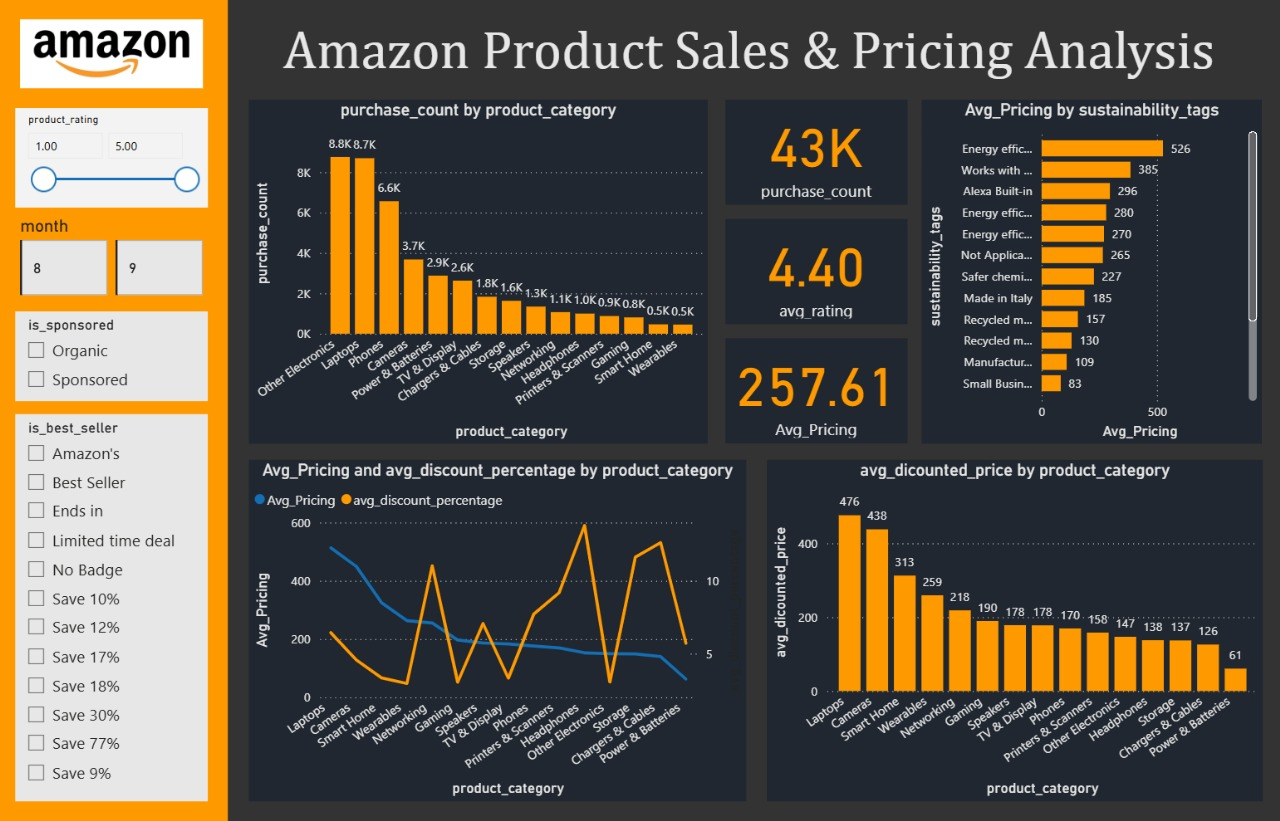

The dashboard page shown, as its layout file describes it:
{"tool":"powerbi","page":{"name":"Page 1","canvas":[1280,820],"ordinal":0},"visuals":[{"type":"textbox","box":[250.1,17.9,997.5,81.1],"z":0},{"type":"textbox","box":[0,0,229.5,820.3],"z":1000},{"type":"slicer","fields":{"Values":["New_Data_Amazon (2).product_rating"]},"box":[17.9,107.2,192.4,98.9],"z":2000},{"type":"advancedSlicerVisual","fields":{"Values":["New_Data_Amazon (2).month"]},"box":[17.9,215.7,287.2,85.2],"z":3000},{"type":"columnChart","fields":{"Category":["New_Data_Amazon (2).product_category"],"Y":["New_Data_Amazon.purchase_count"]},"box":[250.1,98.9,457.5,343.5],"z":4000},{"type":"card","title":"Total Purchaes","fields":{"Values":["New_Data_Amazon.order_count"]},"box":[725.5,98.9,181.4,104.4],"z":5000},{"type":"columnChart","fields":{"Category":["New_Data_Amazon.product_category"],"Y":["New_Data_Amazon.avg_dicounted_price"]},"box":[766.7,458.9,494.6,340.8],"z":6000},{"type":"lineChart","fields":{"Category":["New_Data_Amazon.product_category"],"Y":["New_Data_Amazon.Avg_Pricing"],"Y2":["New_Data_Amazon.avg_discount_percentage"]},"box":[250.1,458.9,496,340.8],"z":7000},{"type":"barChart","fields":{"Category":["New_Data_Amazon.sustainability_tags"],"Y":["New_Data_Amazon.Avg_Pricing"]},"box":[922,98.9,339.4,343.5],"z":8000},{"type":"card","fields":{"Values":["New_Data_Amazon.avg_rating"]},"box":[725.5,218.5,181.4,104.4],"z":9000},{"type":"card","fields":{"Values":["New_Data_Amazon.Avg_Pricing"]},"box":[725.5,338,181.4,104.4],"z":10000},{"type":"slicer","fields":{"Values":["New_Data_Amazon.is_sponsored"]},"box":[17.9,310.5,192.4,89.3],"z":10001},{"type":"slicer","fields":{"Values":["New_Data_Amazon.is_best_seller"]},"box":[17.9,413.6,192.4,386.1],"z":10002},{"type":"image","box":[17.9,0,192.4,107.2],"z":10003}]}

Visuals, with their boxes in screenshot pixels (x1, y1, x2, y2), scaled from the page's 1280x820 canvas onto the 1280x821 screenshot:
textbox: <box>250,18,1248,99</box>
textbox: <box>0,0,230,820</box>
slicer - New_Data_Amazon (2).product_rating: <box>18,107,210,206</box>
advancedSlicerVisual - New_Data_Amazon (2).month: <box>18,216,305,301</box>
columnChart - New_Data_Amazon (2).product_category x New_Data_Amazon.purchase_count: <box>250,99,708,443</box>
"Total Purchaes" card: <box>726,99,907,204</box>
columnChart - New_Data_Amazon.product_category x New_Data_Amazon.avg_dicounted_price: <box>767,459,1261,801</box>
lineChart - New_Data_Amazon.product_category x New_Data_Amazon.Avg_Pricing: <box>250,459,746,801</box>
barChart - New_Data_Amazon.sustainability_tags x New_Data_Amazon.Avg_Pricing: <box>922,99,1261,443</box>
card - New_Data_Amazon.avg_rating: <box>726,219,907,323</box>
card - New_Data_Amazon.Avg_Pricing: <box>726,338,907,443</box>
slicer - New_Data_Amazon.is_sponsored: <box>18,311,210,400</box>
slicer - New_Data_Amazon.is_best_seller: <box>18,414,210,801</box>
image: <box>18,0,210,107</box>
